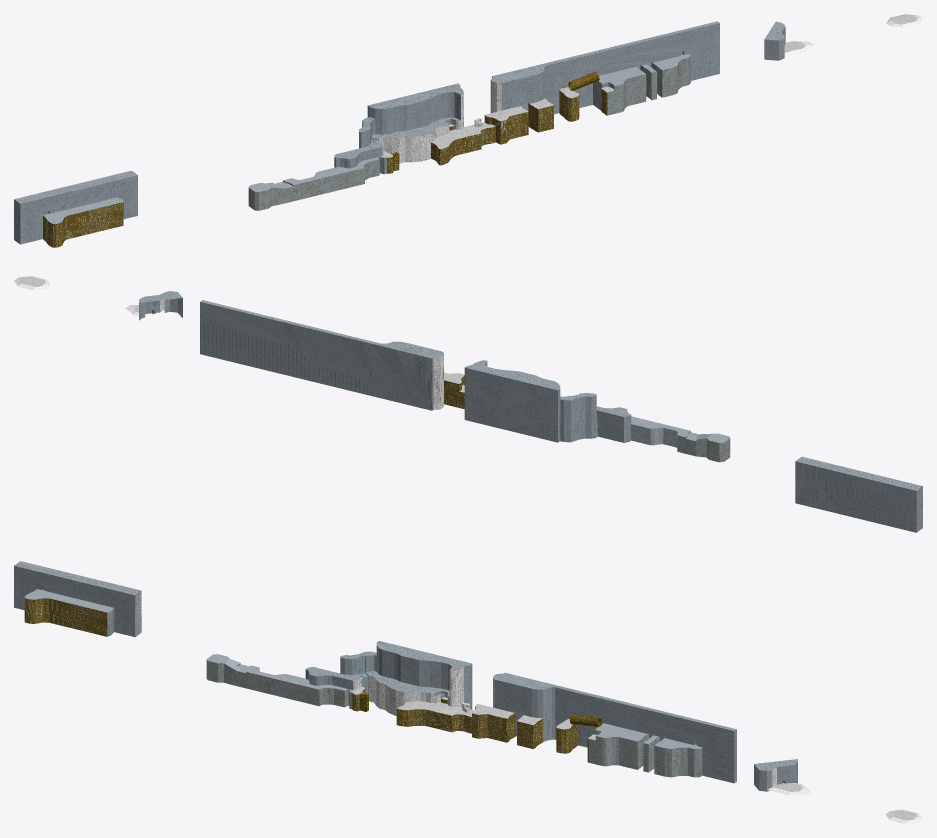
The model's file is swamp.obj.
The picture shows the model from 3 angles, top to bottom: view 1: azimuth 30°, elevation 25°; view 2: azimuth 150°, elevation 25°; view 3: azimuth 330°, elevation 25°; orthographic projection. The views are drawn at different scales.
Parts seen in each view (by area): view 1: Mesh2 Model, Mesh3 Model, Mesh4 Model; view 2: Mesh2 Model, Mesh3 Model, Mesh4 Model; view 3: Mesh2 Model, Mesh3 Model, Mesh4 Model.
Boxes of the visible parts, x1,y1,x2,y2 form: Mesh2 Model: (248, 21, 719, 210); Mesh3 Model: (14, 170, 137, 247); Mesh4 Model: (764, 21, 813, 60); Mesh2 Model: (200, 300, 730, 462); Mesh3 Model: (795, 456, 922, 532); Mesh4 Model: (125, 291, 182, 320); Mesh2 Model: (206, 641, 736, 783); Mesh3 Model: (14, 561, 141, 636); Mesh4 Model: (754, 759, 811, 795).
Bounding box in the file's own units: 1329 × 72.5 × 81.25.
